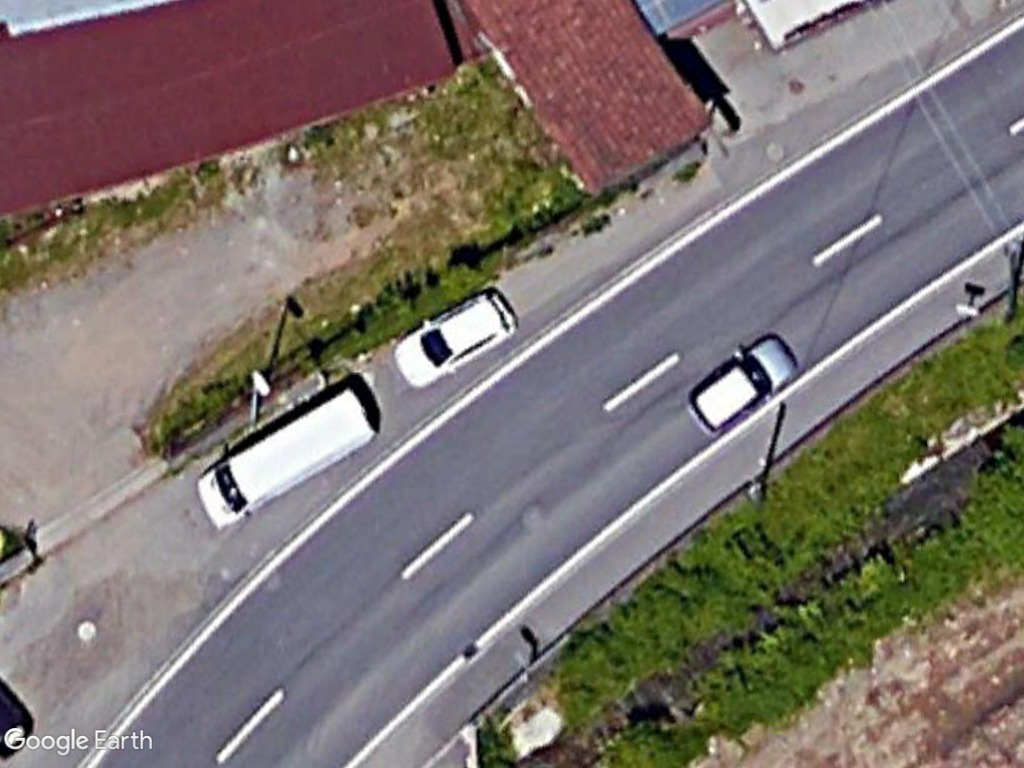car: (387, 289, 521, 388), (687, 335, 799, 438)
van: (189, 377, 376, 535)
